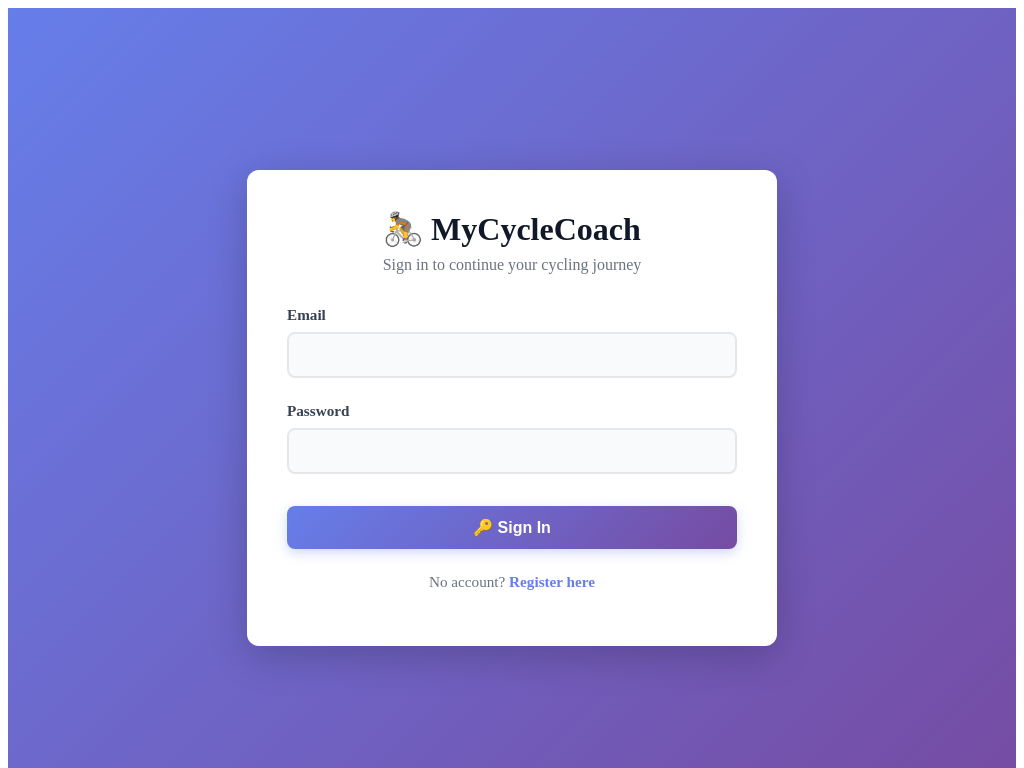
Test: LoginPage Component › shows validation error for invalid email format
Type "invalid-email" into the field at (512, 355), box 287,332 -> 737,378
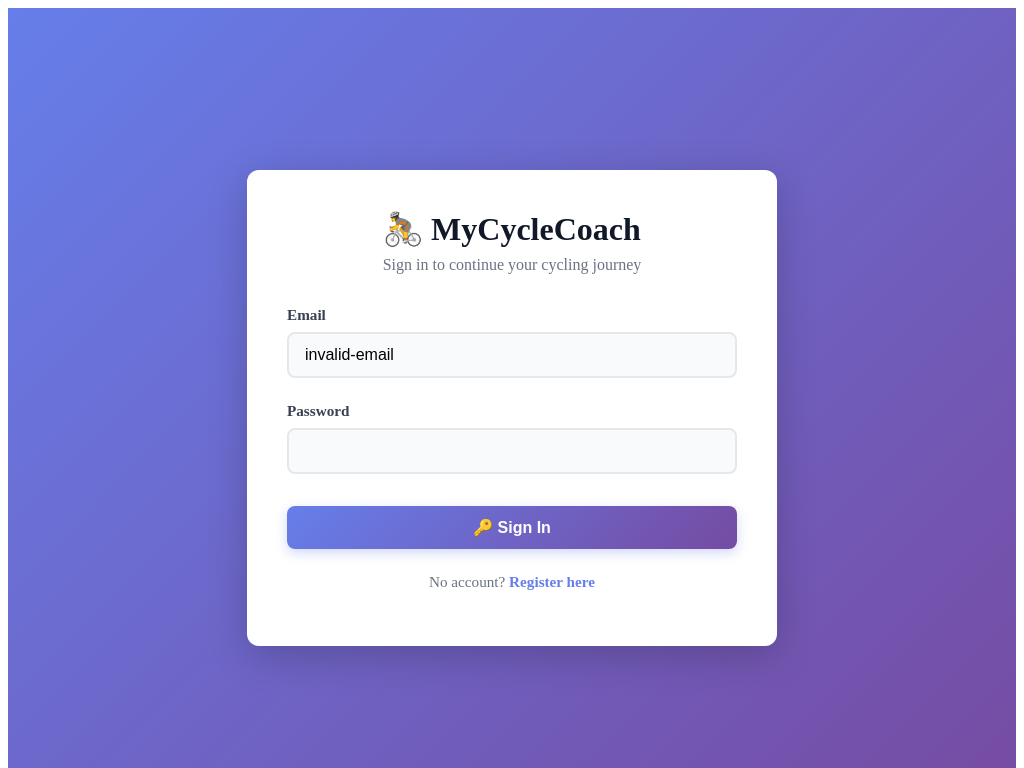
Click the button "🔑 Sign In" at (512, 527), box 287,506 -> 737,549
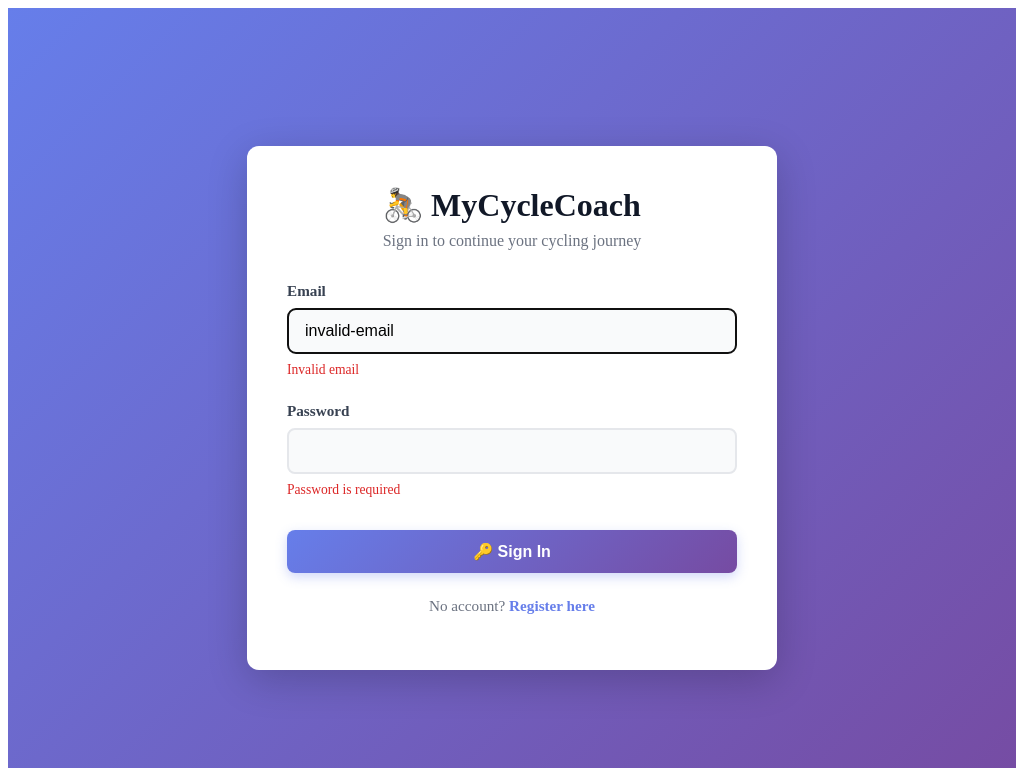
Expected: the text "Invalid email" is shown, 287,362 -> 359,377
